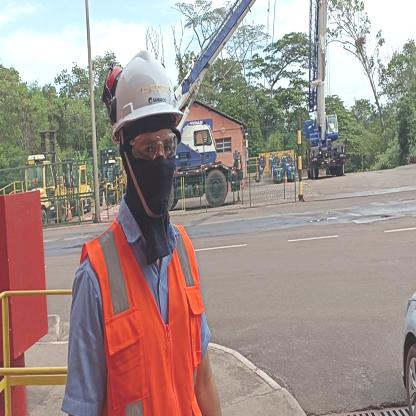Balaclava: (122, 133, 175, 238)
Capacete: (108, 44, 186, 122)
colete: (89, 224, 203, 416)
